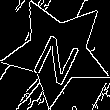N_NE: (28, 20, 87, 83)
